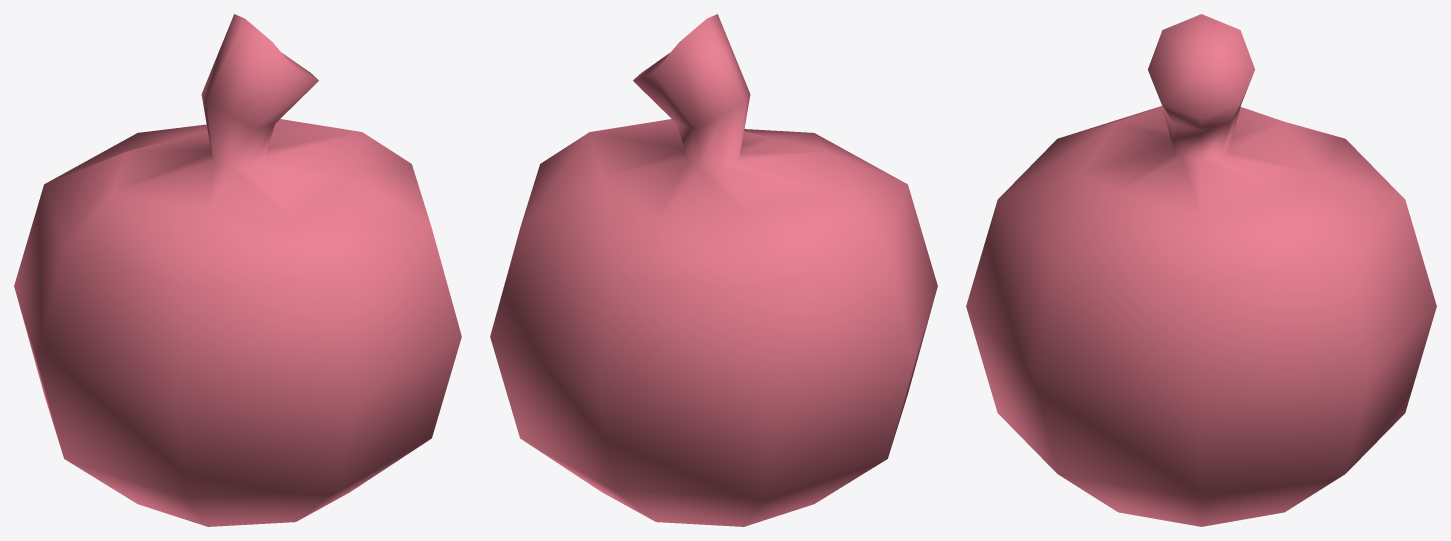
File: Apple.fbx
The picture shows the model from 3 angles, left to right: view 1: azimuth 30°, elevation 25°; view 2: azimuth 150°, elevation 25°; view 3: azimuth 270°, elevation 25°; orthographic projection.
Parts seen in each view (by area): view 1: Apple; view 2: Apple; view 3: Apple.
Part boxes in pixels (x1,y1,x2,y2): Apple: (14, 14, 461, 526); Apple: (490, 14, 937, 526); Apple: (966, 14, 1436, 526).
Bounding box in the file's own units: 10 × 11.15 × 10.
